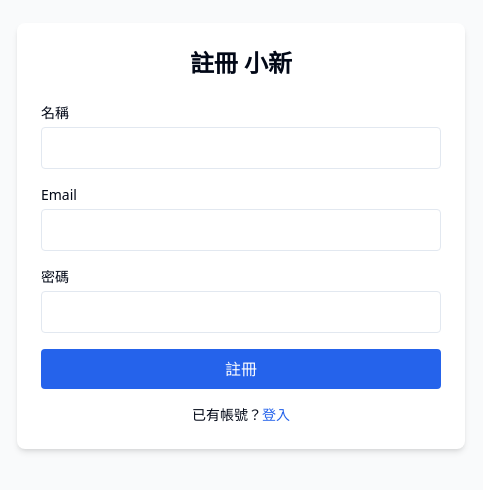
Test: RegisterPage › shows error on failed registration
In the field below "名稱": (241, 148) [41, 127, 441, 169], type "User"
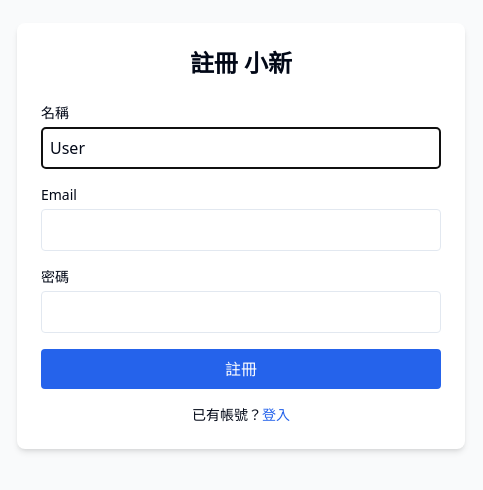
In the field below "Email": (241, 230) [41, 209, 441, 251], type "a@b.com"
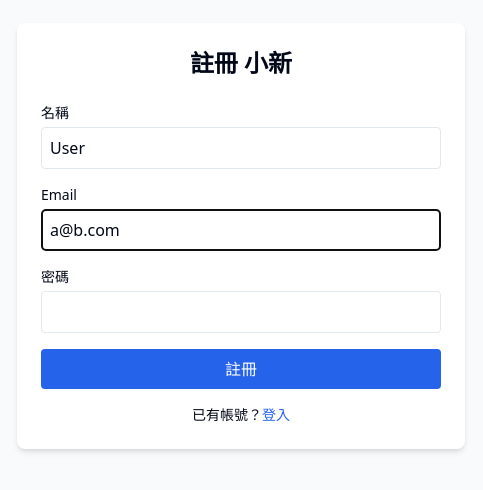
In the password field: (241, 312) [41, 291, 441, 333], type "pass123"
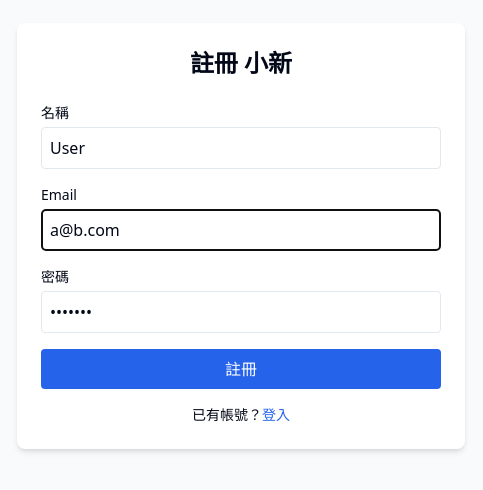
Submit the form with test id "register-form", box [41, 103, 441, 389]
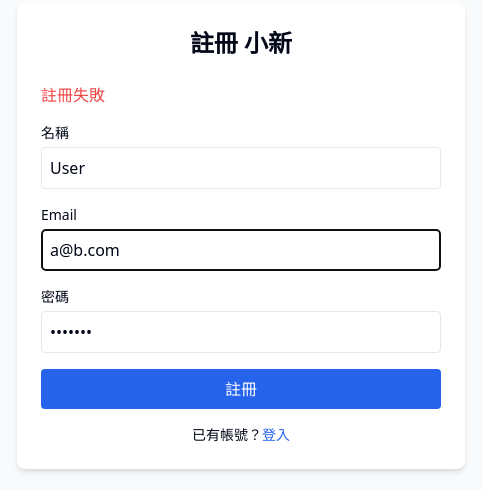
Expected: the text "註冊失敗" is shown, [41, 84, 105, 106]
